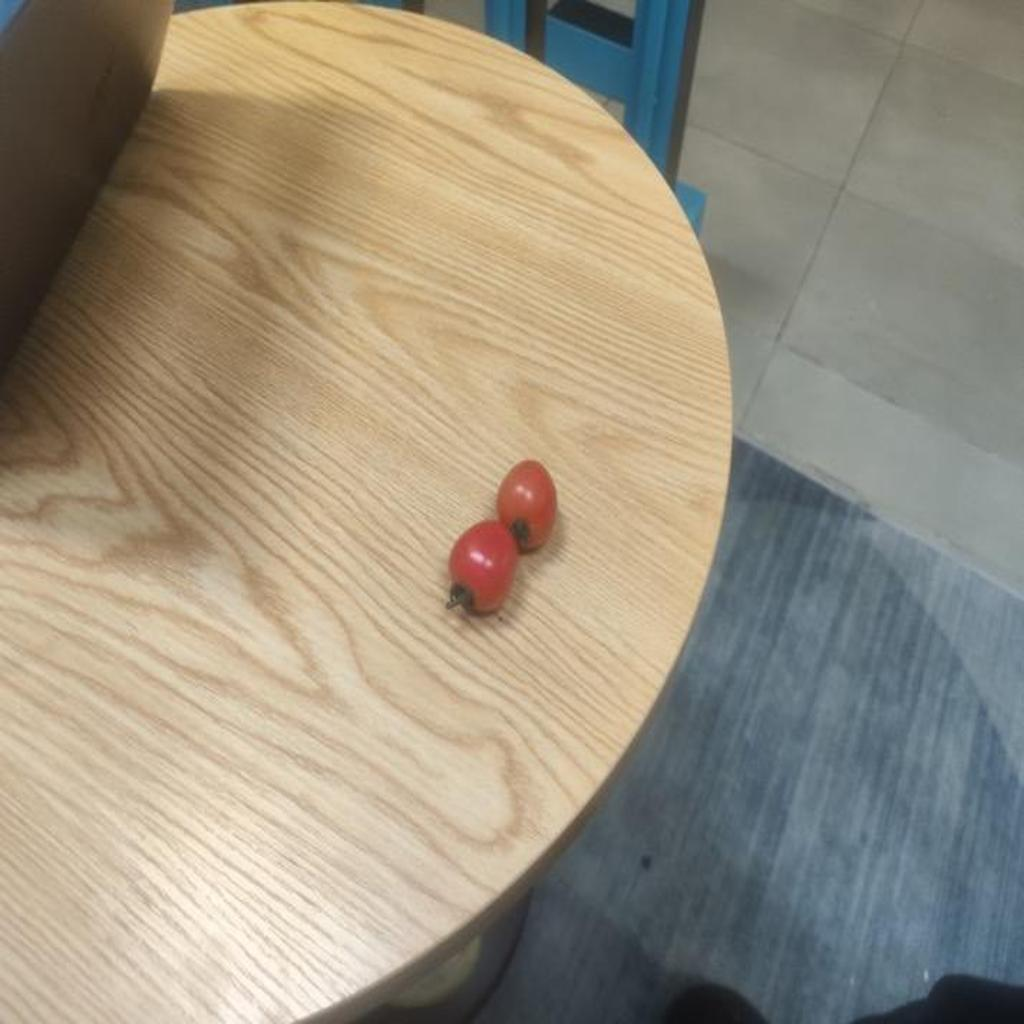tomato: (490, 459, 567, 555), (442, 526, 517, 612)
